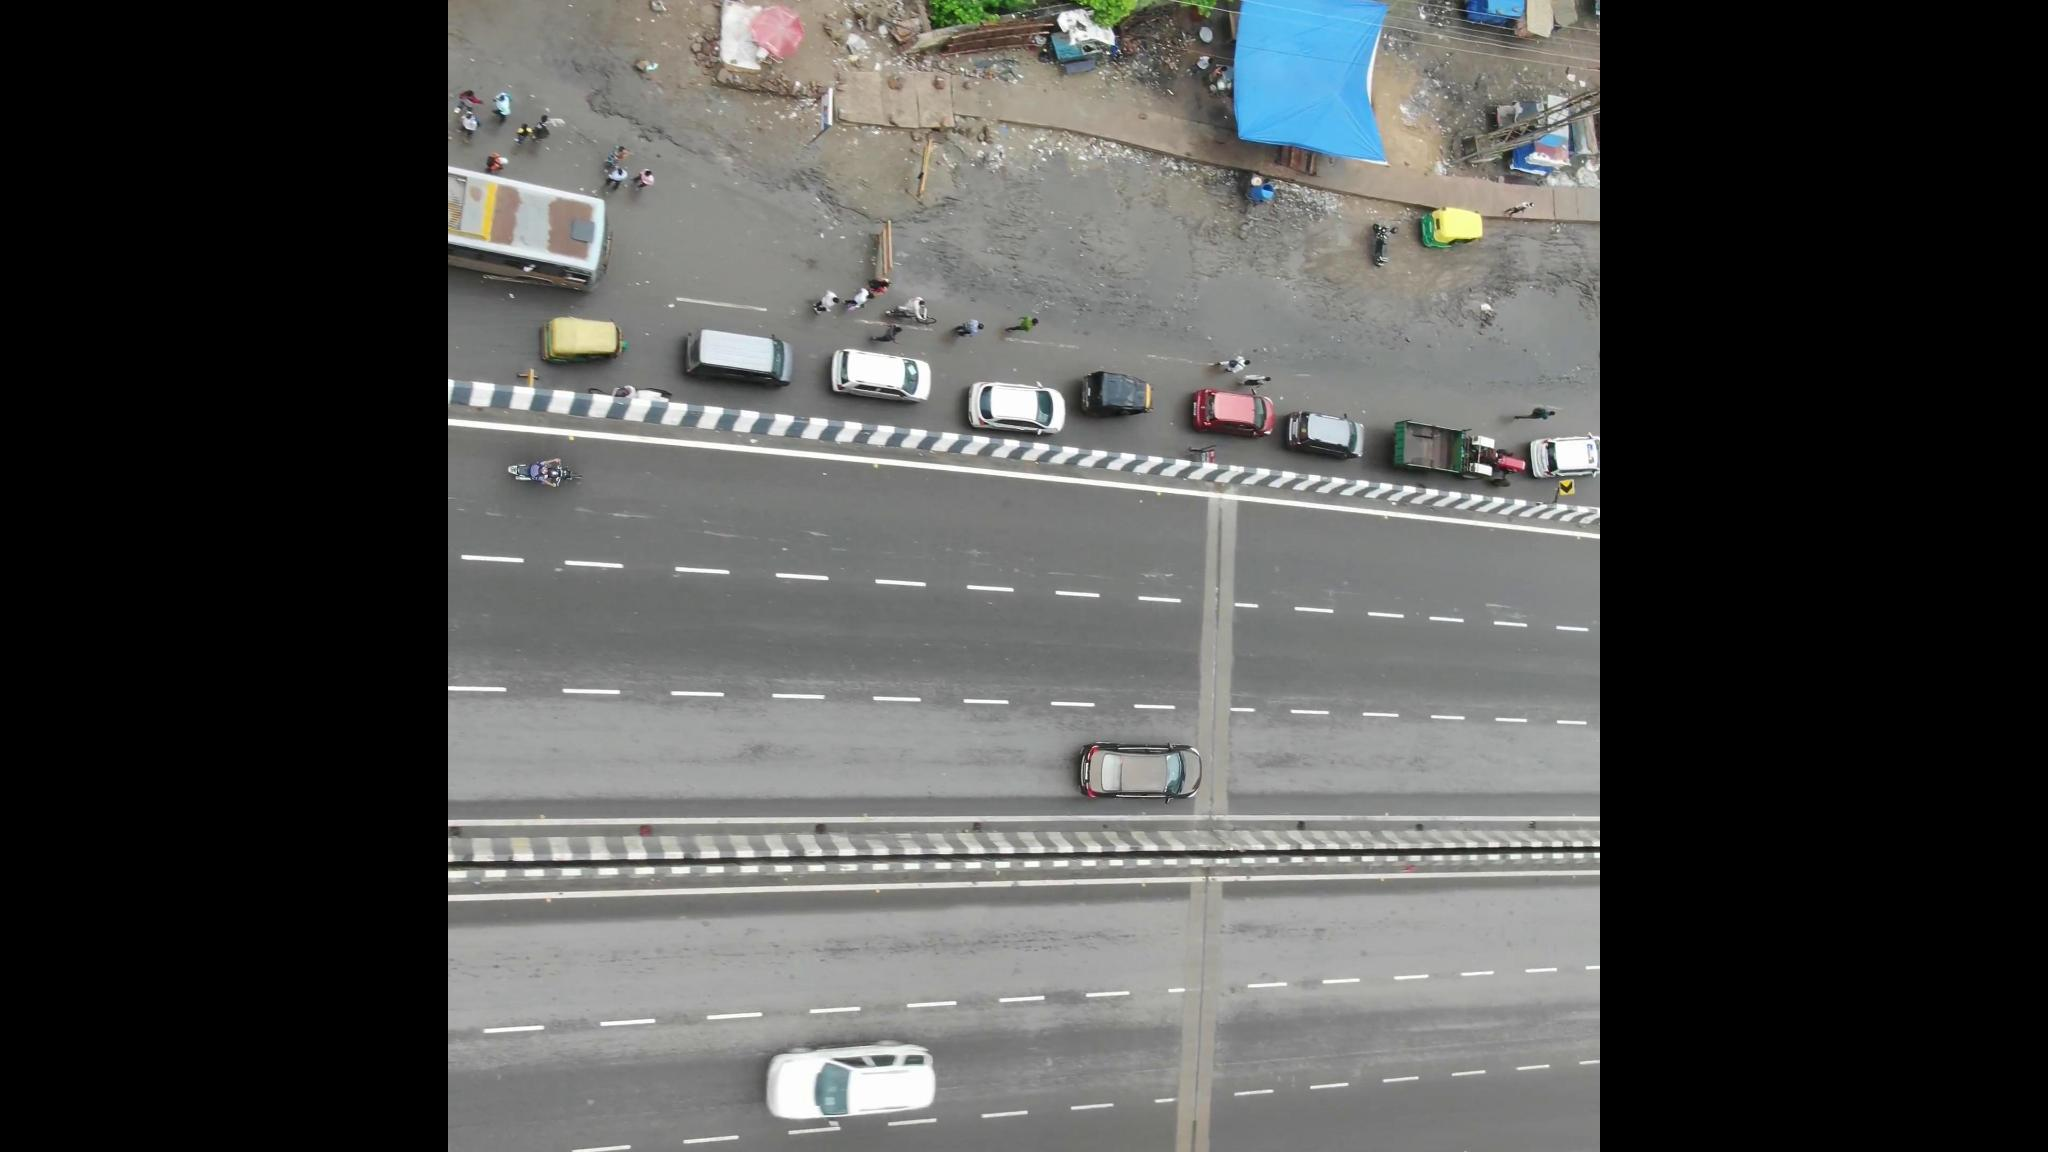Ravelling: (830, 928, 1115, 975), (577, 489, 679, 537)
